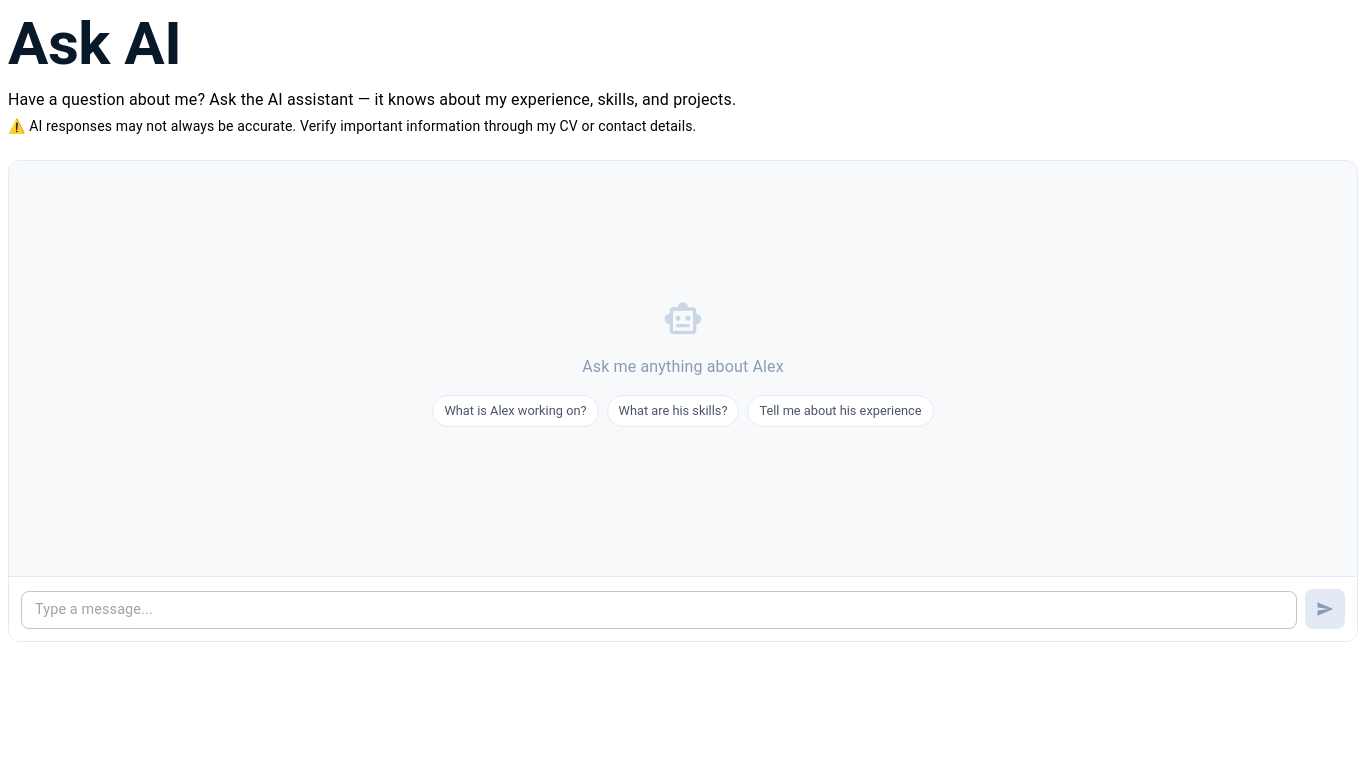
Test: Chat › shows a fallback message when the API responds with a non-ok status
Type "This will fail" into the text box with placeholder "Type a message...".
click(659, 610); type("This will fail")  # box [35,600,1283,620]
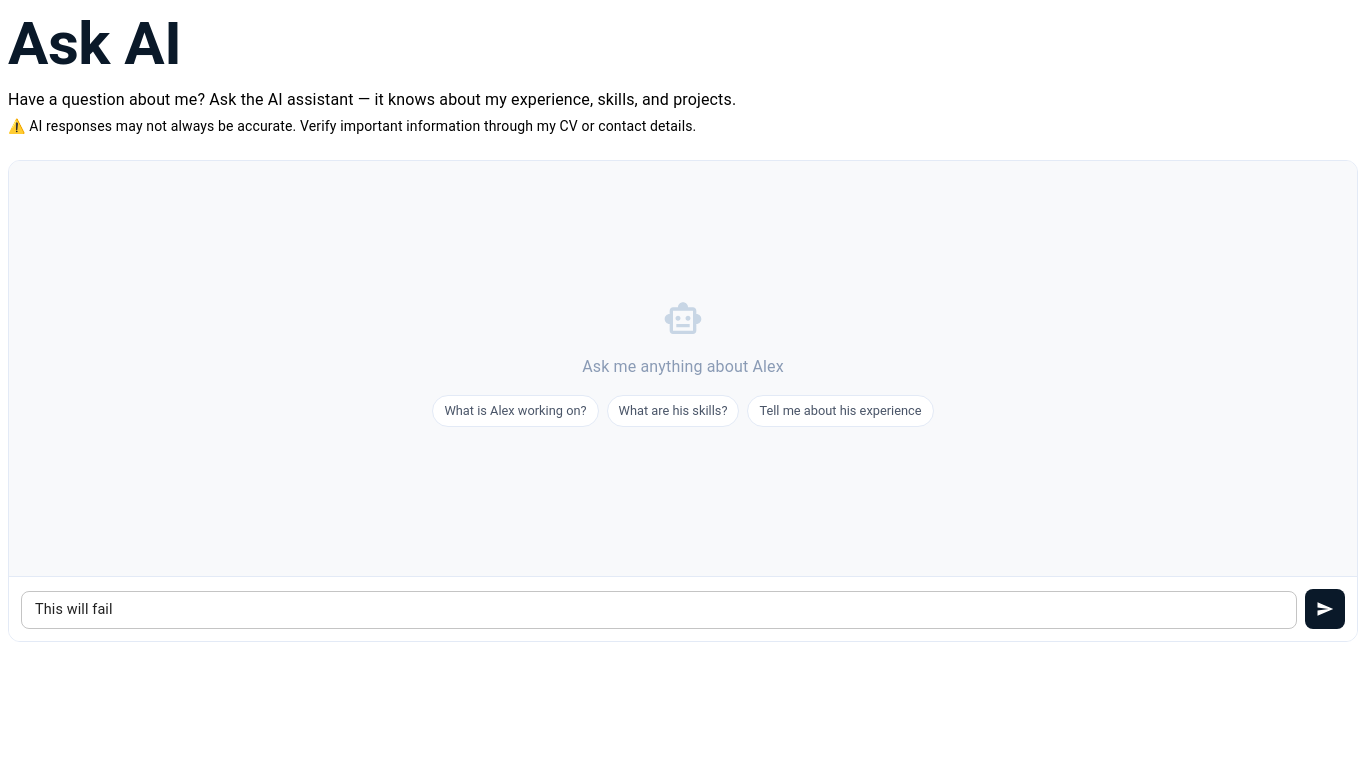
Click the button named "Send message".
click(1325, 609)  # box [1305,589,1345,629]
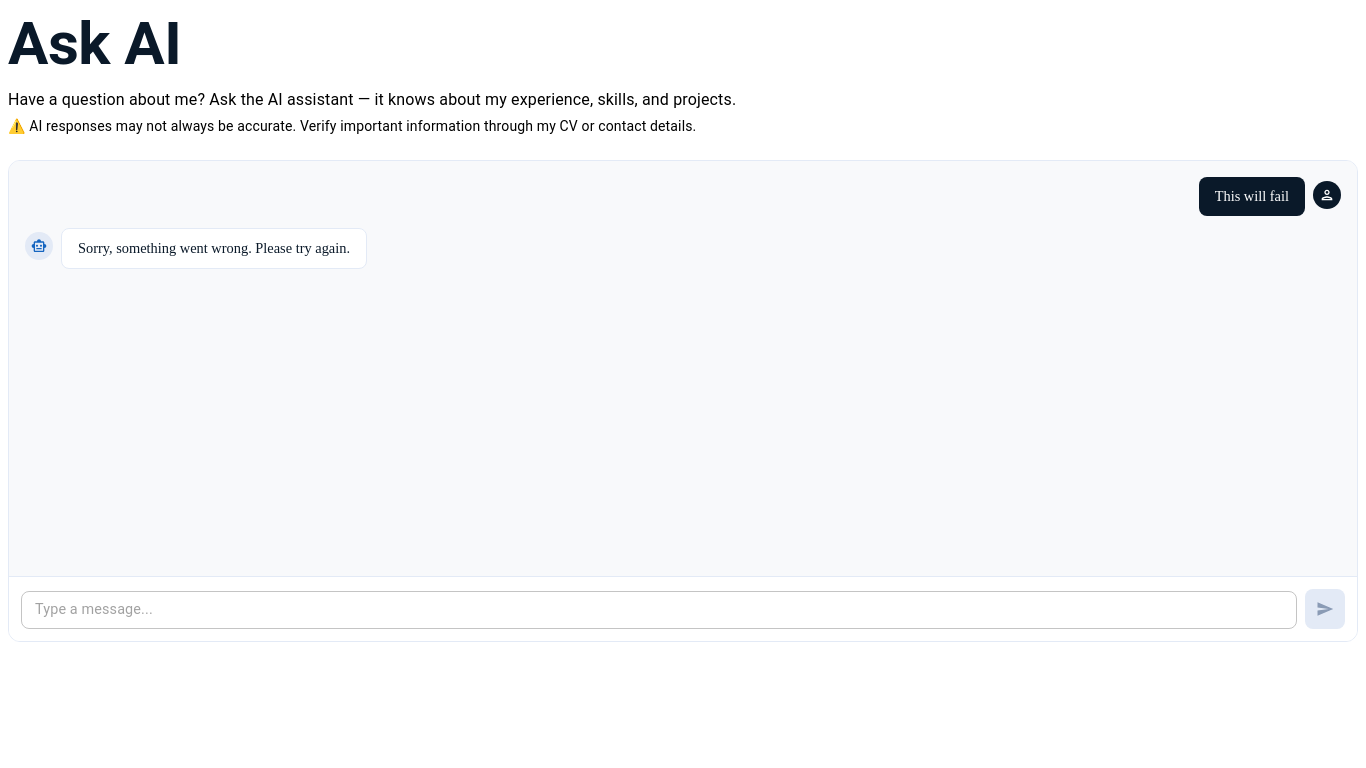
Now the text "Sorry, something went wrong. Please try again." is shown, box [78,237,350,260]
